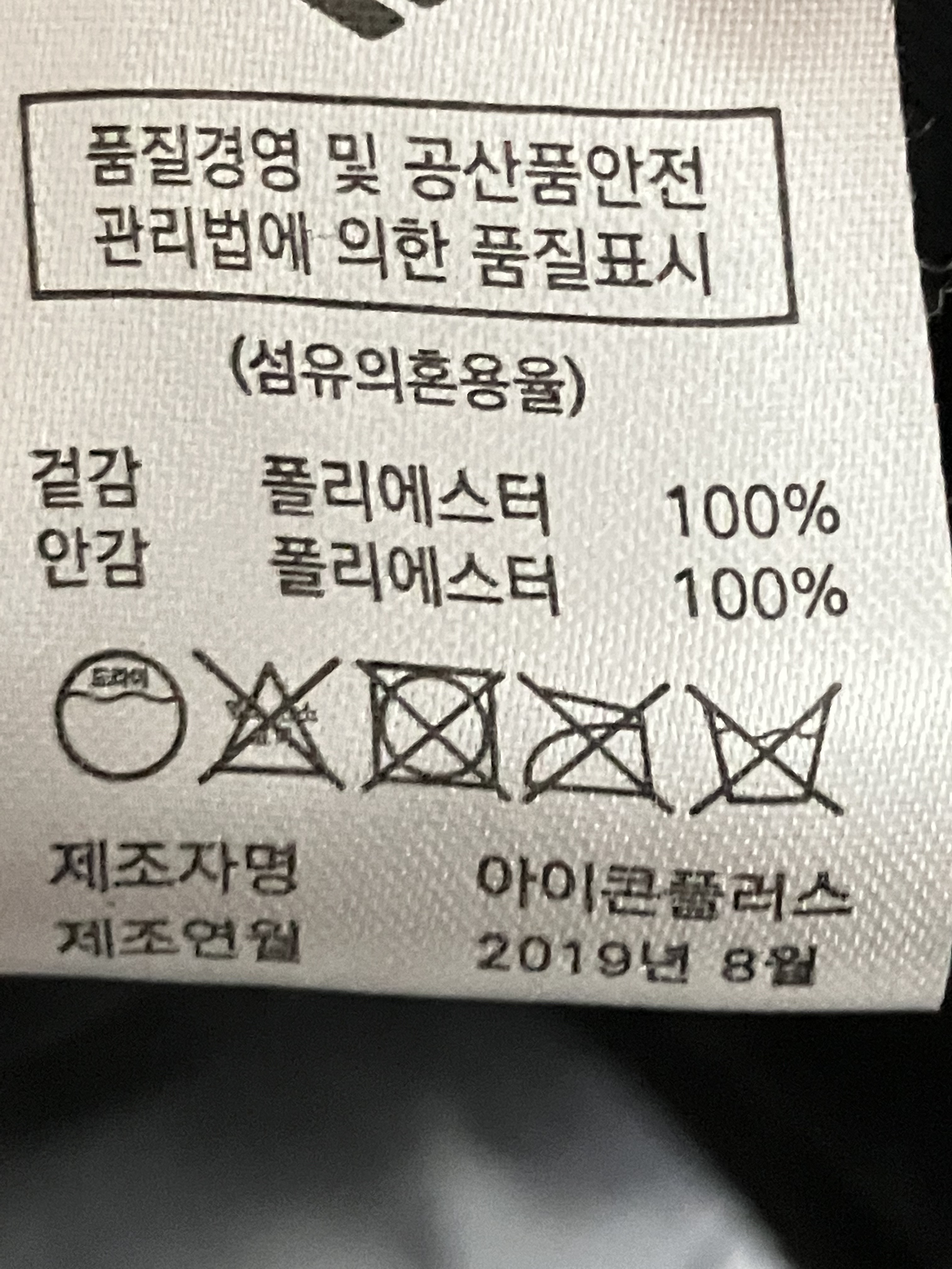KR_dry_clean: (45, 635, 191, 792)
KR_no_bleach: (188, 639, 343, 794)
KR_no_iron: (512, 658, 686, 811)
KR_no_tumble_dry: (353, 650, 512, 805)
KR_no_wash: (677, 667, 847, 823)
